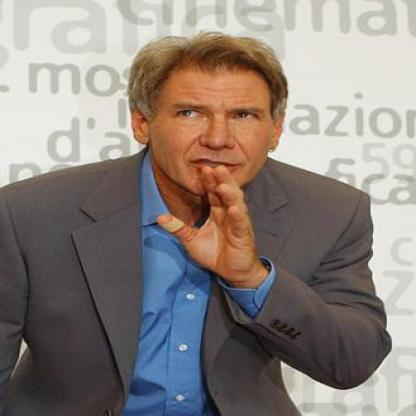face: (148, 46, 279, 198)
